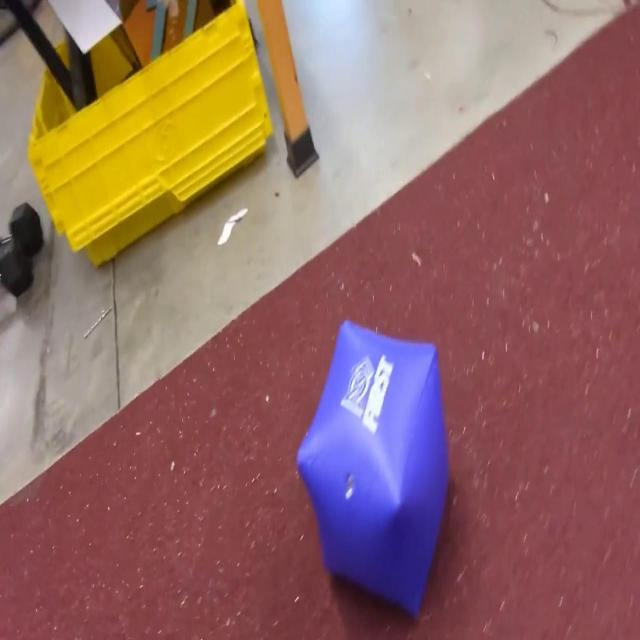frc_cube: (295, 318, 450, 614)
